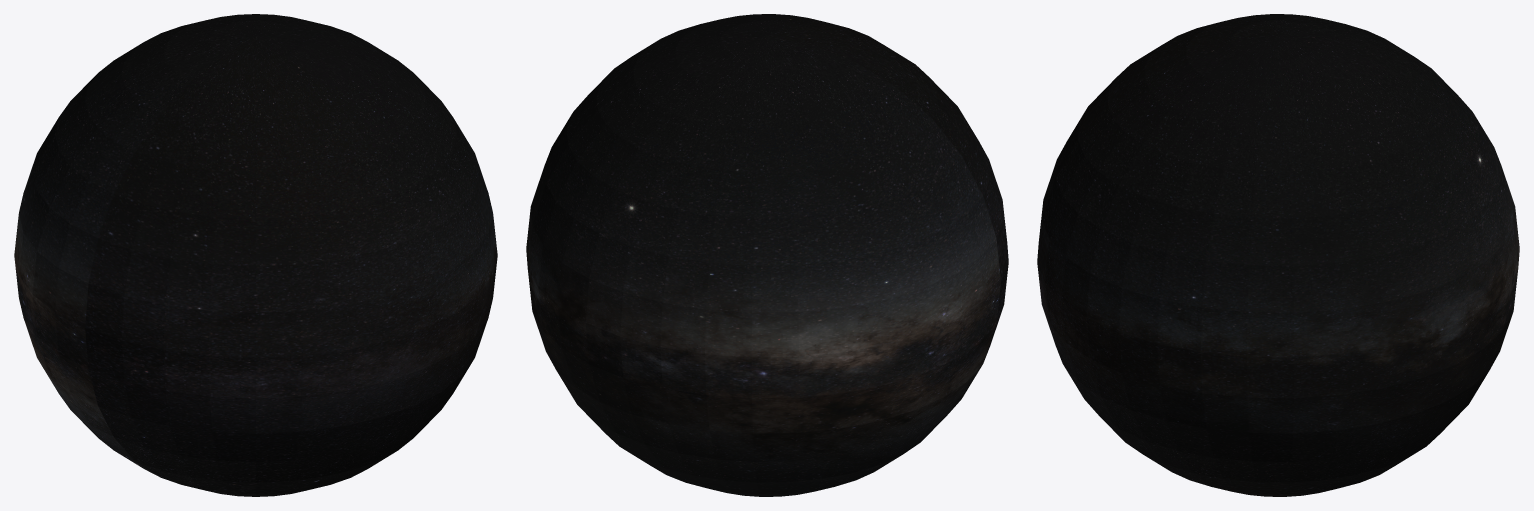
Rendered from singularity-blackhole.glb.
3 renders of one model, left to right at view 1: azimuth 30°, elevation 25°; view 2: azimuth 150°, elevation 25°; view 3: azimuth 270°, elevation 25°, orthographic.
Parts seen in each view (by area): view 1: Sphere.002; view 2: Sphere.002; view 3: Sphere.002.
Boxes of the visible parts, x1,y1,x2,y2 form: Sphere.002: (14, 14, 497, 496); Sphere.002: (526, 14, 1008, 496); Sphere.002: (1037, 14, 1519, 496).
Size of the model in its own units: 49.89 by 50 by 49.89.
5 materials, 1 textured.
